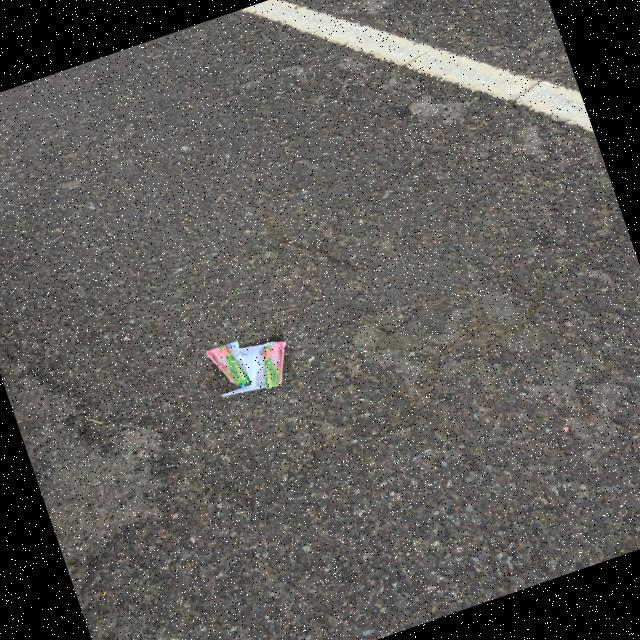Disposable food container: (218, 340, 286, 395)
Plastic film: (207, 345, 251, 386)
